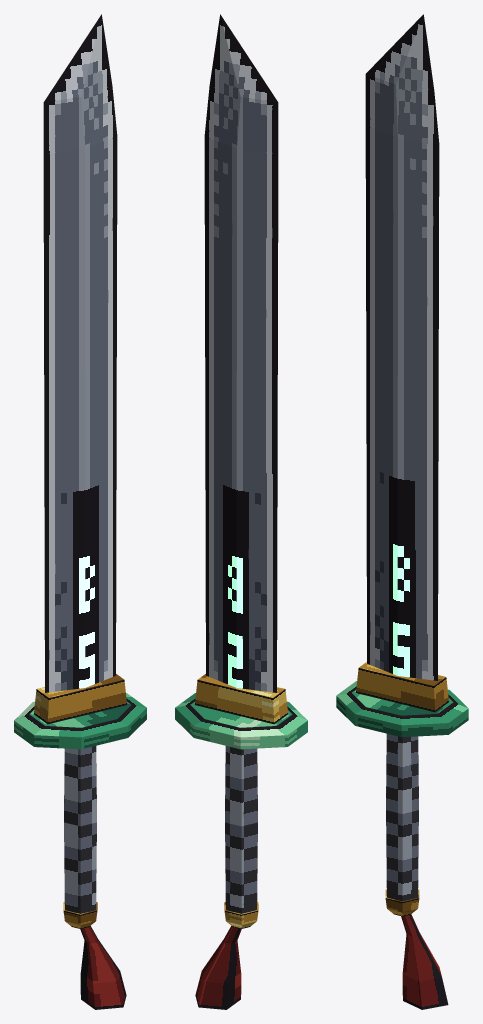
Rendered from sword_1h_jade.glb.
3 views of the same model, side by side, from view 1: azimuth 30°, elevation 25°; view 2: azimuth 150°, elevation 25°; view 3: azimuth 330°, elevation 25° (orthographic).
Parts seen in each view (by area): view 1: sword_1h_jade; view 2: sword_1h_jade; view 3: sword_1h_jade.
Boxes of the visible parts, x1,y1,x2,y2 form: sword_1h_jade: (14, 14, 146, 1009); sword_1h_jade: (175, 14, 307, 1009); sword_1h_jade: (336, 14, 468, 1009).
Bounding box in the file's own units: 0.1589 × 1.33 × 0.1183.
Materials: 1 (1 with a texture image).
